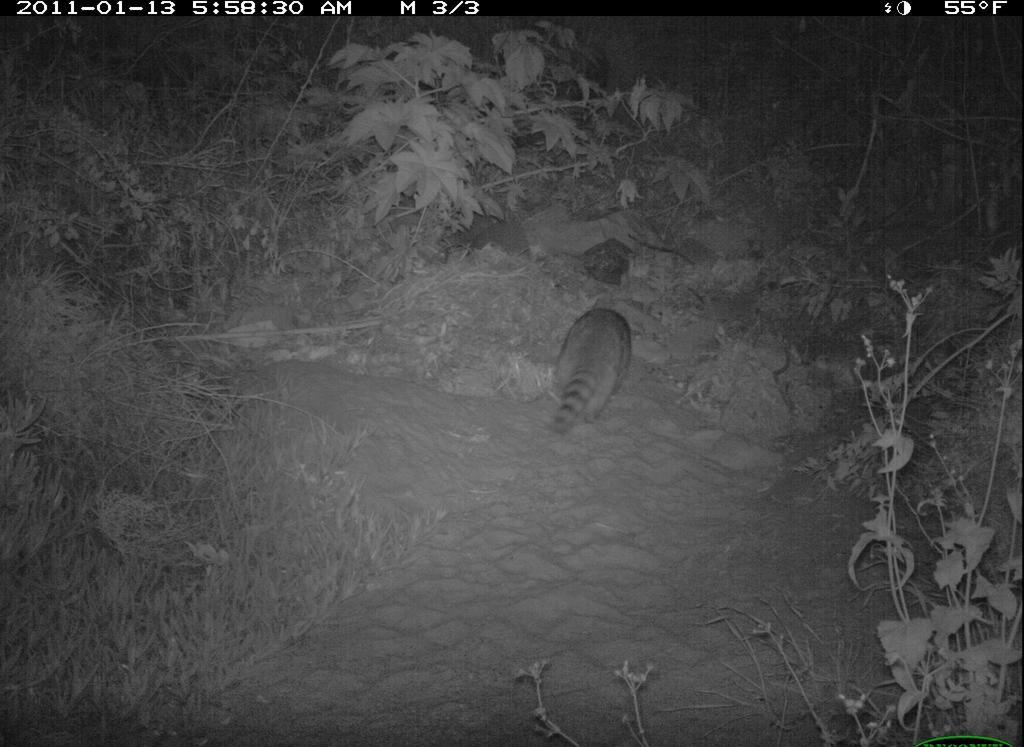raccoon: (513, 290, 648, 464)
